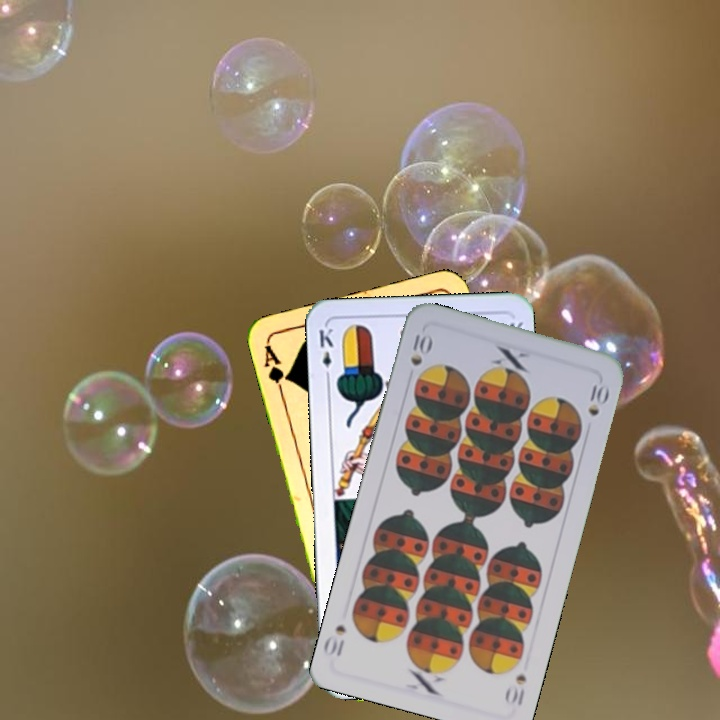EK: (315, 324, 337, 383)
GA: (260, 340, 293, 398)
S10: (406, 329, 435, 368), (501, 669, 529, 708)
